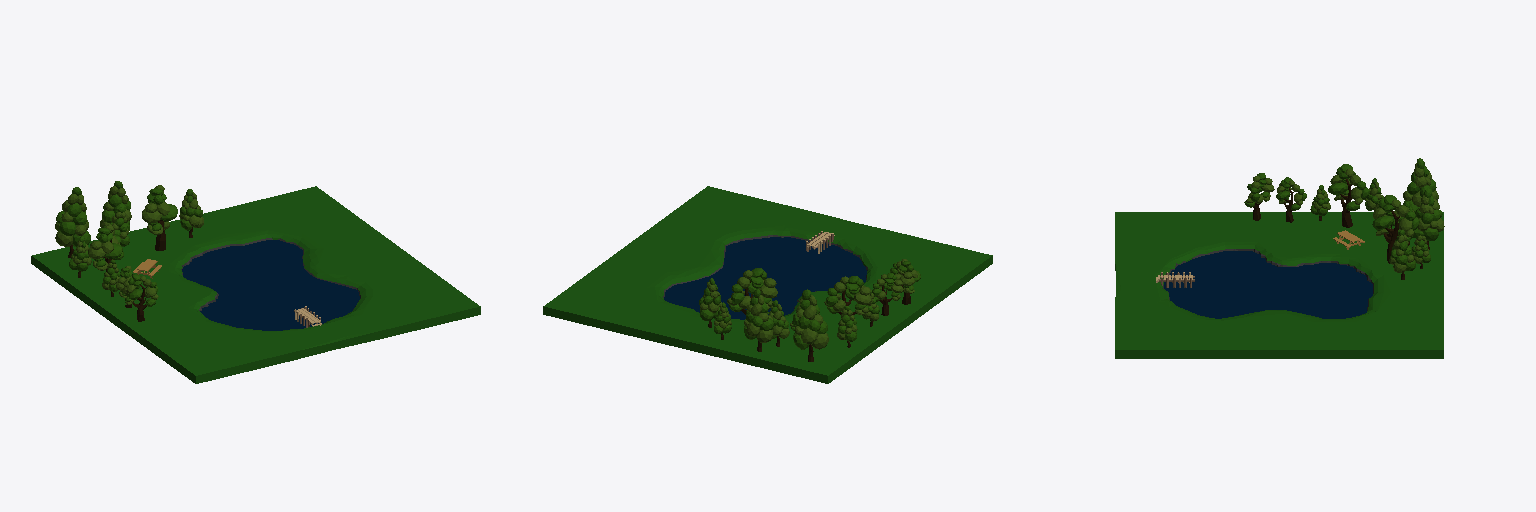
The model's file is Park2.obj.
3 renders of one model, left to right at view 1: azimuth 30°, elevation 25°; view 2: azimuth 150°, elevation 25°; view 3: azimuth 270°, elevation 25°, orthographic.
Visible parts, largest first — view 1: Ground_Grid, Water_Grid.001; view 2: Ground_Grid, Water_Grid.001; view 3: Ground_Grid, Water_Grid.001.
Boxes of the visible parts, box(x1,y1,x2,y2) form: Ground_Grid: box(31, 181, 480, 383); Water_Grid.001: box(182, 240, 359, 330); Ground_Grid: box(543, 186, 992, 383); Water_Grid.001: box(664, 237, 866, 319); Ground_Grid: box(1115, 158, 1444, 358); Water_Grid.001: box(1164, 251, 1372, 318).
Size of the model in its own units: 60 by 17.82 by 60.05.